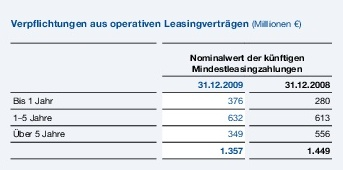table: (0, 0, 343, 170)
